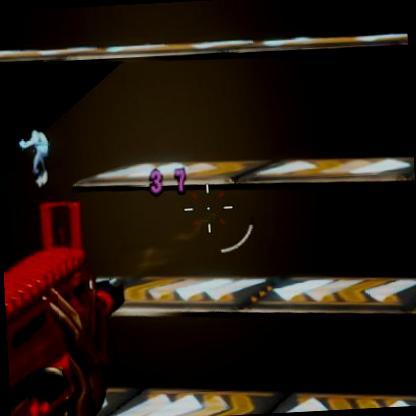person: (21, 126, 57, 183)
